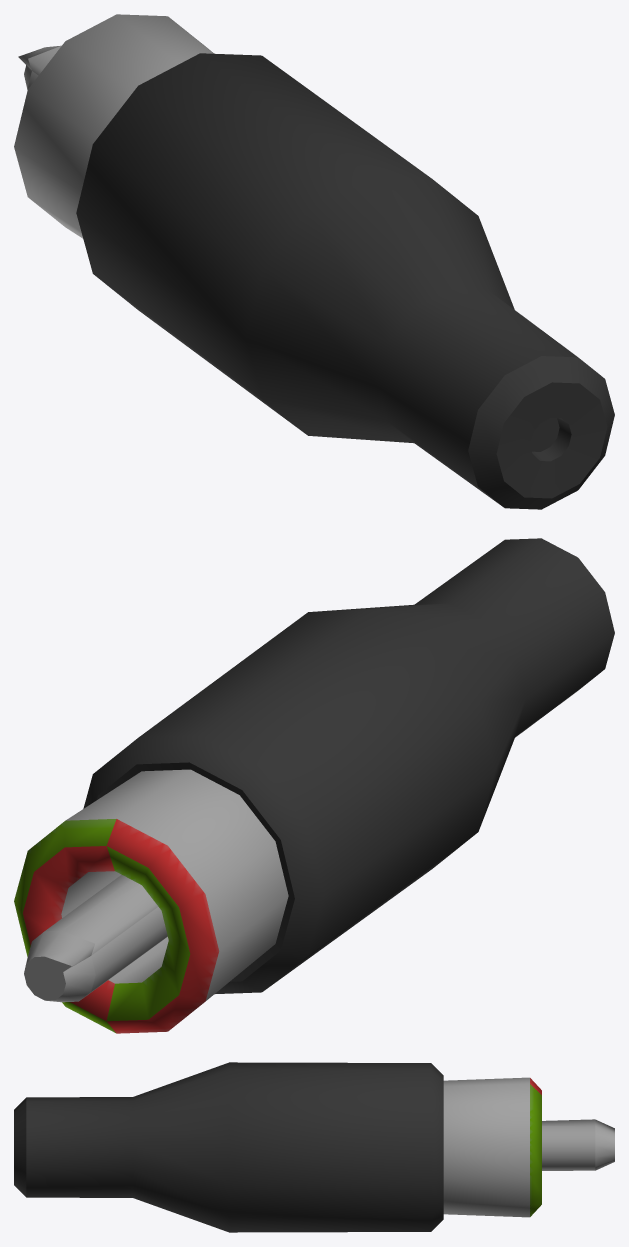
File: Connector.fbx
3 views of the same model, one above another, from view 1: azimuth 30°, elevation 25°; view 2: azimuth 150°, elevation 25°; view 3: azimuth 270°, elevation 25° (orthographic). The views are drawn at different scales.
Parts seen in each view (by area): view 1: ConnectorRed, ConnectorGreen; view 2: ConnectorRed, ConnectorGreen; view 3: ConnectorGreen, ConnectorRed.
Part boxes in pixels (x1=…): ConnectorRed: x1=14, y1=14, x2=607, y2=509; ConnectorGreen: x1=18, y1=14, x2=614, y2=509; ConnectorRed: x1=23, y1=538, x2=614, y2=1033; ConnectorGreen: x1=14, y1=538, x2=540, y2=1033; ConnectorGreen: x1=14, y1=1070, x2=614, y2=1232; ConnectorRed: x1=14, y1=1062, x2=585, y2=1126.
Bounding box in the file's own units: 12.96 × 12.96 × 45.61.
